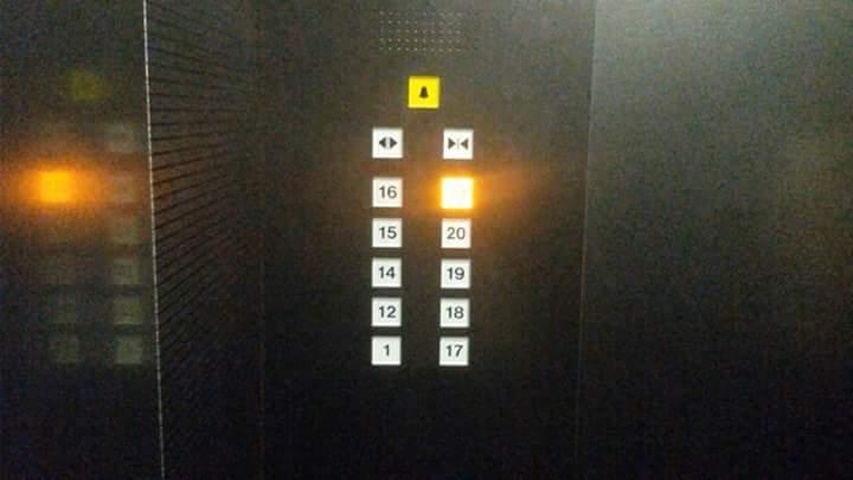1: (370, 335, 403, 366)
12: (370, 295, 402, 328)
14: (369, 257, 402, 289)
15: (371, 216, 403, 247)
16: (371, 175, 403, 208)
17: (437, 334, 471, 366)
18: (438, 296, 470, 329)
19: (439, 257, 471, 289)
20: (439, 216, 472, 249)
alarm: (407, 74, 440, 111)
close: (443, 128, 474, 160)
empty: (440, 177, 474, 210)
open: (370, 125, 405, 160)
